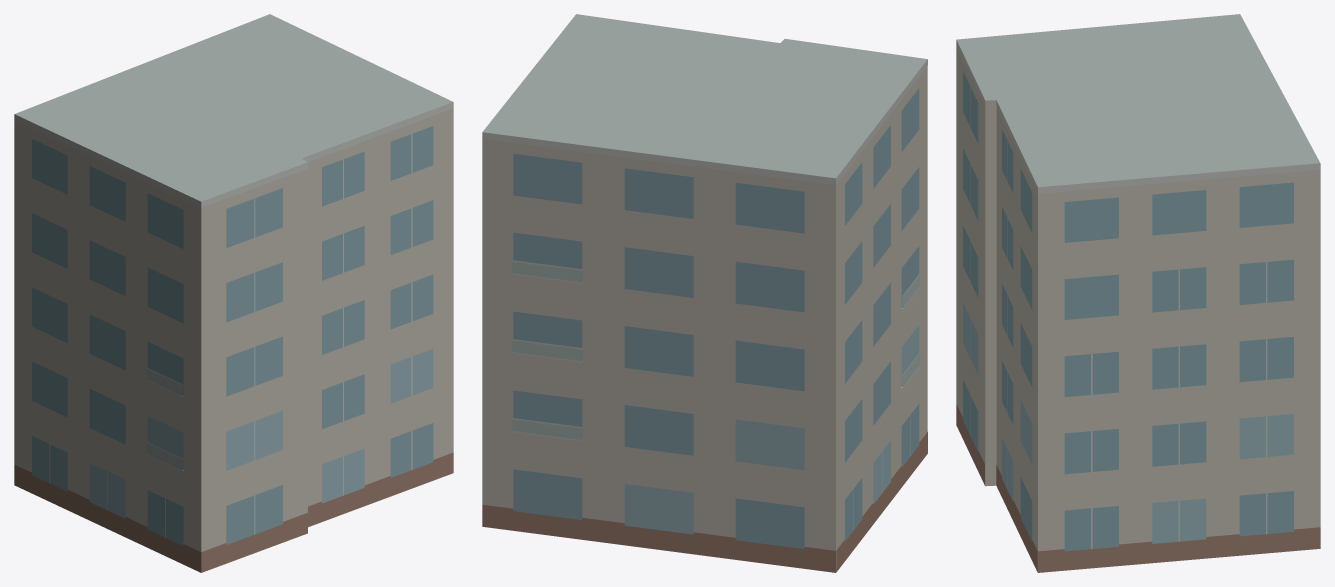
The model's file is survey-upis-32613547.glb.
3 renders of one model, left to right at view 1: azimuth 30°, elevation 25°; view 2: azimuth 150°, elevation 25°; view 3: azimuth 270°, elevation 25°, orthographic. The views are drawn at different scales.
Visible parts, largest first — view 1: survey-upis-32613547.tmp; view 2: survey-upis-32613547.tmp; view 3: survey-upis-32613547.tmp.
Boxes of the visible parts, x1=… form: survey-upis-32613547.tmp: x1=14, y1=14, x2=453, y2=572; survey-upis-32613547.tmp: x1=482, y1=14, x2=927, y2=572; survey-upis-32613547.tmp: x1=956, y1=14, x2=1320, y2=572.
Bounding box in the file's own units: 13.98 × 14.5 × 12.42.
